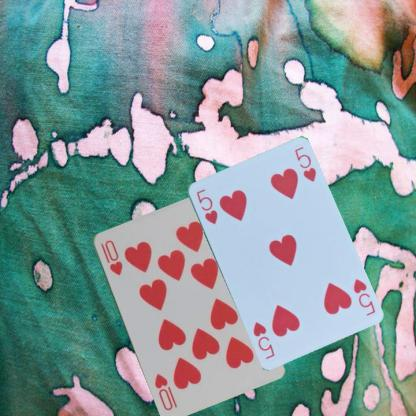10h: (98, 237, 124, 277)
5h: (350, 276, 376, 317), (194, 186, 219, 226)
